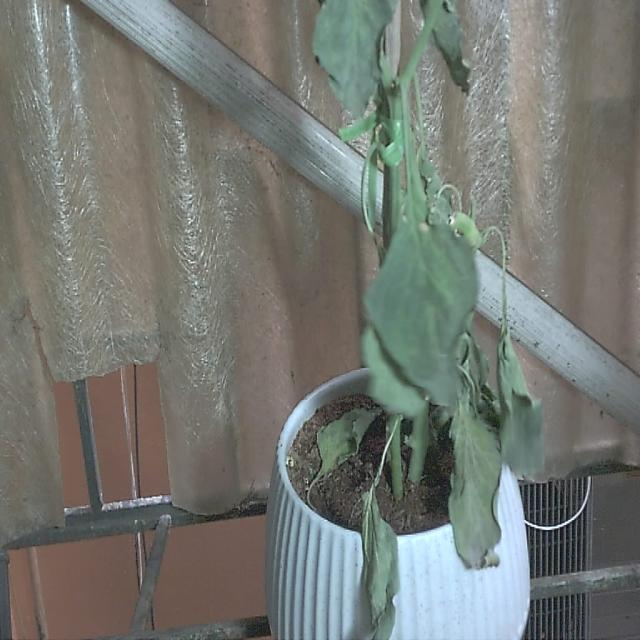Leaf: (366, 216, 478, 409), (448, 413, 504, 569), (315, 2, 388, 119), (358, 489, 402, 640)
